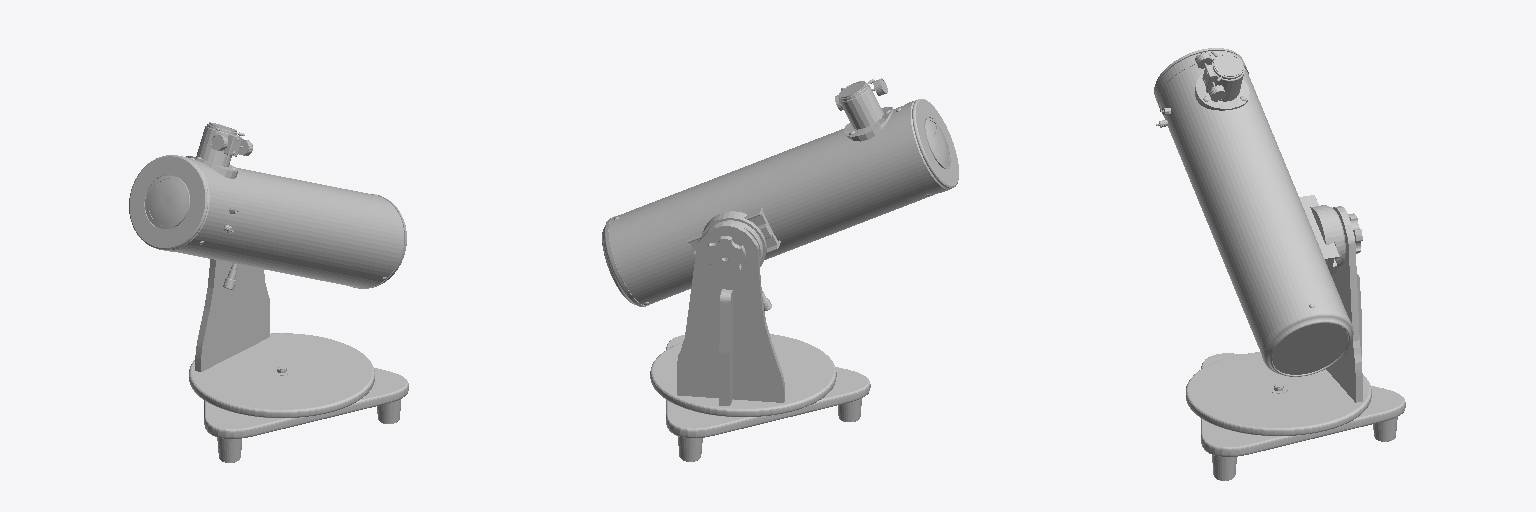
File: skyscanner_100.obj
3 views of the same model, side by side, from view 1: azimuth 30°, elevation 25°; view 2: azimuth 150°, elevation 25°; view 3: azimuth 270°, elevation 25° (orthographic).
Parts seen in each view (by area): view 1: Optical_Tube_Cylinder.002, Base_Cylinder.001, Dovetail_And_Focuser_Cube.001; view 2: Optical_Tube_Cylinder.002, Base_Cylinder.001, Dovetail_And_Focuser_Cube.001; view 3: Optical_Tube_Cylinder.002, Base_Cylinder.001, Dovetail_And_Focuser_Cube.001.
Part boxes in pixels (x1,y1,x2,y2): Optical_Tube_Cylinder.002: (129, 155, 406, 288); Base_Cylinder.001: (189, 259, 408, 462); Dovetail_And_Focuser_Cube.001: (186, 122, 252, 178); Optical_Tube_Cylinder.002: (602, 99, 958, 306); Base_Cylinder.001: (650, 211, 870, 461); Dovetail_And_Focuser_Cube.001: (687, 78, 893, 255); Optical_Tube_Cylinder.002: (1154, 48, 1353, 376); Base_Cylinder.001: (1186, 205, 1405, 480); Dovetail_And_Focuser_Cube.001: (1195, 52, 1339, 274).
Bounding box in the file's own units: 6.33 × 6.81 × 4.58.